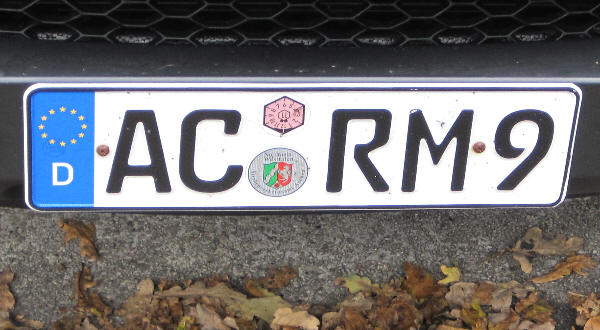license_plate: (22, 83, 580, 211)
